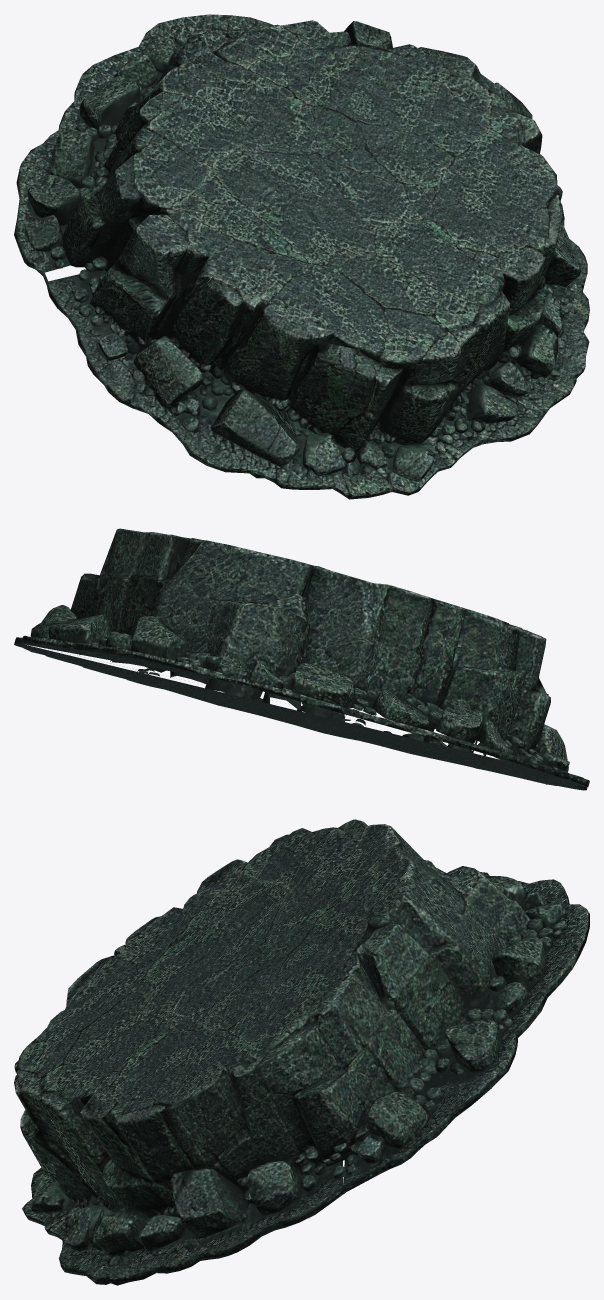
Rendered from 04-verdant-synapse-base.glb.
The picture shows the model from 3 angles, top to bottom: view 1: azimuth 30°, elevation 25°; view 2: azimuth 150°, elevation 25°; view 3: azimuth 270°, elevation 25°; orthographic projection. The views are drawn at different scales.
Visible parts, largest first — view 1: cd01dc15_2808_4ed2_b4f8_35af9306795b; view 2: cd01dc15_2808_4ed2_b4f8_35af9306795b; view 3: cd01dc15_2808_4ed2_b4f8_35af9306795b.
Boxes of the visible parts, x1,y1,x2,y2 form: cd01dc15_2808_4ed2_b4f8_35af9306795b: (14,14,589,499); cd01dc15_2808_4ed2_b4f8_35af9306795b: (14,528,589,790); cd01dc15_2808_4ed2_b4f8_35af9306795b: (14,819,589,1285).
Bounding box in the file's own units: 0.9995 × 0.6333 × 0.9106.
Materials: 1 (1 with a texture image).
